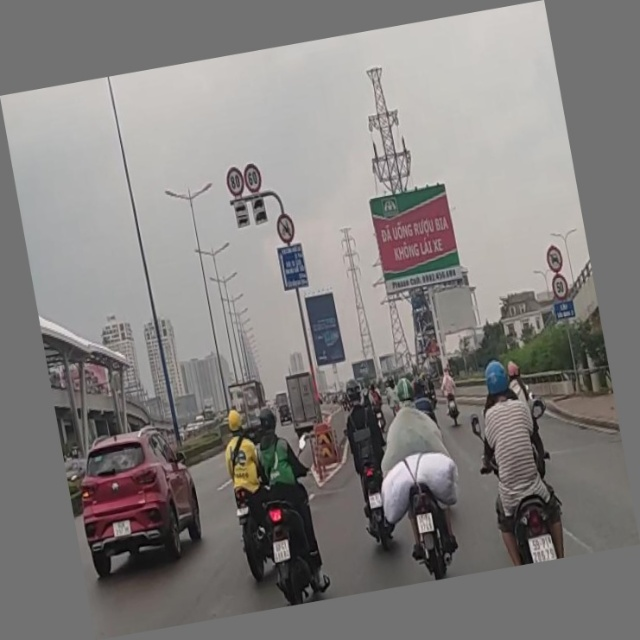P.103a: (545, 240, 564, 272)
P.104: (274, 211, 298, 242)
P.127*50: (550, 271, 569, 300)
P.127*60: (243, 162, 265, 195)
P.127*80: (223, 163, 247, 198)
